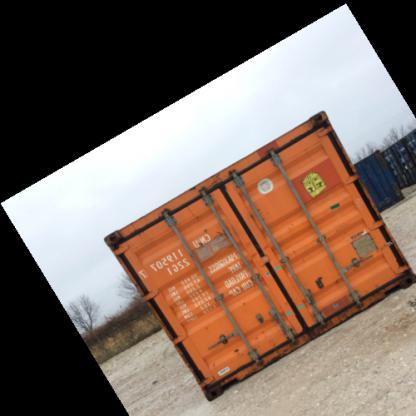Damage: (189, 222, 240, 258), (346, 226, 384, 269), (244, 205, 274, 244), (246, 249, 270, 288), (308, 271, 334, 297)
